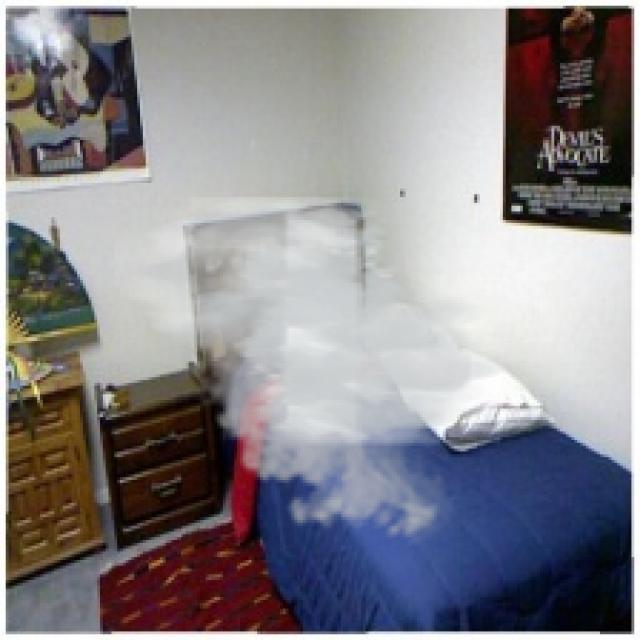Smoke: (114, 197, 529, 549)
